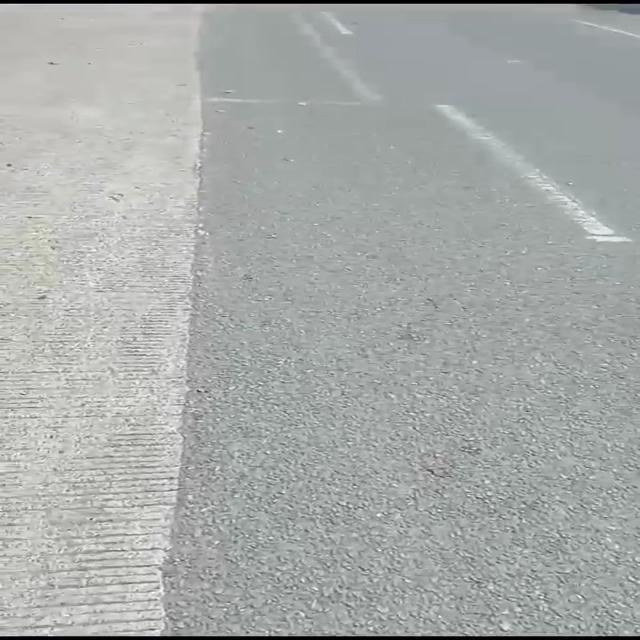Sambungan: (0, 5, 203, 632)
